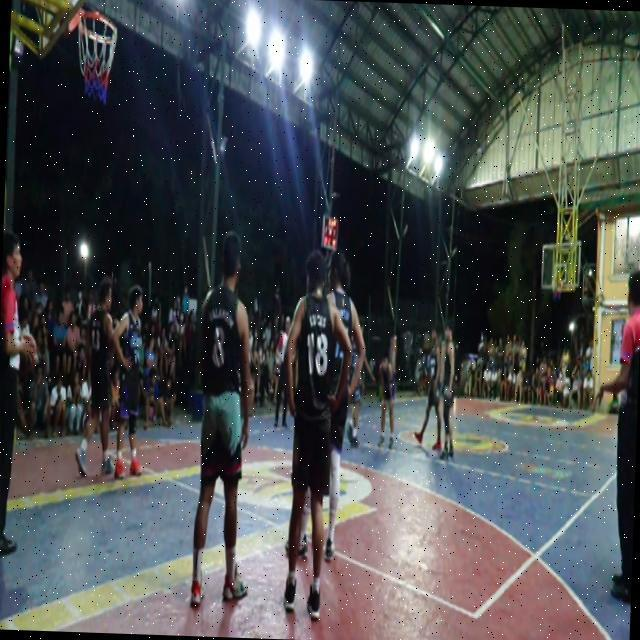ball: (16, 330, 41, 388)
